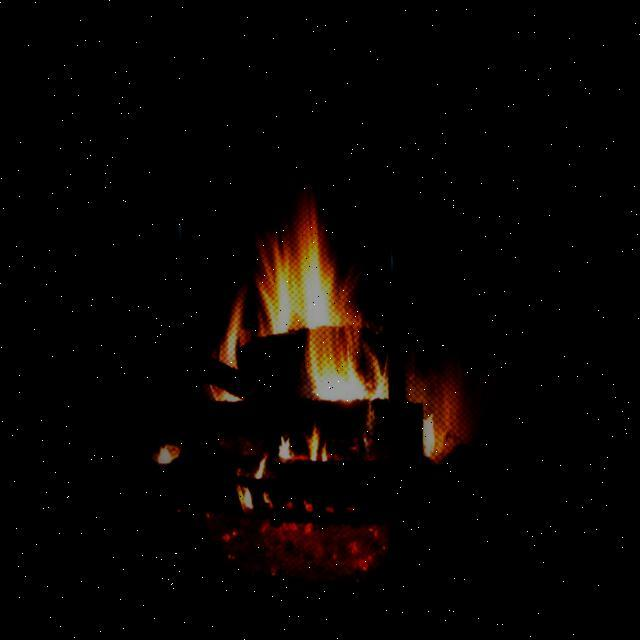Fire: (194, 162, 387, 470)
